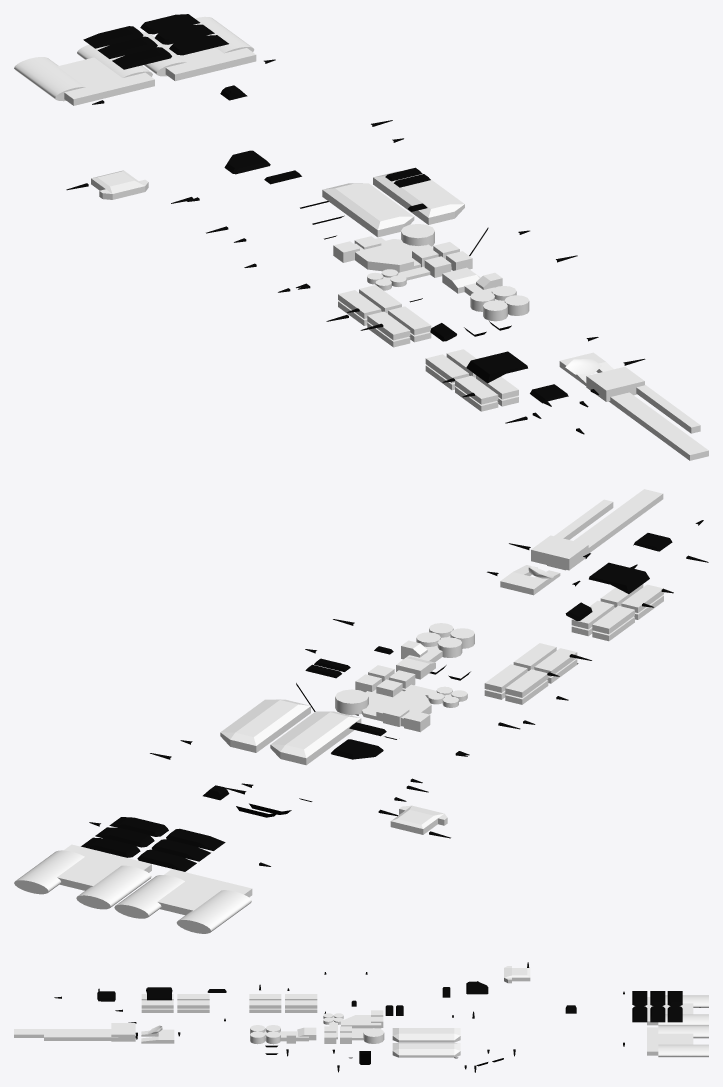
Rendered from hgn_fs_expl_02.glb.
3 renders of one model, top to bottom at view 1: azimuth 30°, elevation 25°; view 2: azimuth 150°, elevation 25°; view 3: azimuth 270°, elevation 25°, orthographic. The views are drawn at different scales.
Parts seen in each view (by area): view 1: hgn_flagship_explorer_t1_LOD0, Factory_1_3 (1)!!!!!!!!, StandardEngine_1_3 (3), StandardScanner_1_1, StandardEngine_1_3 (1), FleetReadyHangar_1_2, Refinery_1_2 (1), FleetReadyHangar_1_2 (1), Storage_1_1 (5), Storage_1_1 (7), Storage_1_1 (1), Storage_1_1 (6) (+2 smaller); view 2: hgn_flagship_explorer_t1_LOD0, StandardEngine_1_3 (3), StandardEngine_1_3 (1), Factory_1_3 (1)!!!!!!!!, StandardScanner_1_1, FleetReadyHangar_1_2 (1), FleetReadyHangar_1_2, Refinery_1_2 (1), Storage_1_1 (1), Storage_1_1 (6), Storage_1_1 (5), Storage_1_1 (7) (+2 smaller); view 3: hgn_flagship_explorer_t1_LOD0, StandardEngine_1_3 (1), Factory_1_3 (1)!!!!!!!!, StandardScanner_1_1, StandardEngine_1_3 (3), Refinery_1_2 (1), FleetReadyHangar_1_2 (1), FleetReadyHangar_1_2, Storage_1_1 (1), Storage_1_1 (5), Storage_1_1 (6), Market_1_1 (+2 smaller).
Part boxes in pixels (bbox=[...]): hgn_flagship_explorer_t1_LOD0: bbox=[66, 14, 645, 434]; Factory_1_3 (1)!!!!!!!!: bbox=[333, 224, 472, 290]; StandardEngine_1_3 (3): bbox=[14, 44, 154, 105]; StandardScanner_1_1: bbox=[586, 366, 708, 460]; StandardEngine_1_3 (1): bbox=[141, 16, 256, 81]; FleetReadyHangar_1_2: bbox=[322, 183, 414, 237]; Refinery_1_2 (1): bbox=[442, 267, 529, 321]; FleetReadyHangar_1_2 (1): bbox=[373, 171, 464, 224]; Storage_1_1 (5): bbox=[367, 306, 431, 347]; Storage_1_1 (7): bbox=[455, 375, 518, 411]; Storage_1_1 (1): bbox=[338, 285, 401, 325]; Storage_1_1 (6): bbox=[425, 349, 476, 390]; hgn_flagship_explorer_t1_LOD0: bbox=[81, 520, 708, 871]; StandardEngine_1_3 (3): bbox=[114, 869, 252, 933]; StandardEngine_1_3 (1): bbox=[14, 844, 151, 909]; Factory_1_3 (1)!!!!!!!!: bbox=[335, 665, 467, 732]; StandardScanner_1_1: bbox=[531, 489, 663, 570]; FleetReadyHangar_1_2 (1): bbox=[220, 699, 310, 752]; FleetReadyHangar_1_2: bbox=[270, 711, 361, 765]; Refinery_1_2 (1): bbox=[396, 623, 474, 679]; Storage_1_1 (1): bbox=[484, 664, 548, 704]; Storage_1_1 (6): bbox=[571, 600, 634, 641]; Storage_1_1 (5): bbox=[513, 643, 577, 683]; Storage_1_1 (7): bbox=[600, 584, 663, 619]; hgn_flagship_explorer_t1_LOD0: bbox=[54, 962, 682, 1072]; StandardEngine_1_3 (1): bbox=[647, 1026, 708, 1057]; Factory_1_3 (1)!!!!!!!!: bbox=[323, 1010, 384, 1043]; StandardScanner_1_1: bbox=[14, 1023, 135, 1041]; StandardEngine_1_3 (3): bbox=[647, 995, 708, 1025]; Refinery_1_2 (1): bbox=[250, 1025, 316, 1044]; FleetReadyHangar_1_2 (1): bbox=[392, 1043, 460, 1057]; FleetReadyHangar_1_2: bbox=[392, 1028, 460, 1042]; Storage_1_1 (1): bbox=[285, 994, 317, 1012]; Storage_1_1 (5): bbox=[249, 994, 281, 1012]; Storage_1_1 (6): bbox=[177, 994, 209, 1012]; Market_1_1: bbox=[141, 1025, 174, 1043].
Size of what is drawn, in the model's own units: 5.29 by 1.48 by 16.45.
4 materials, 1 textured.
